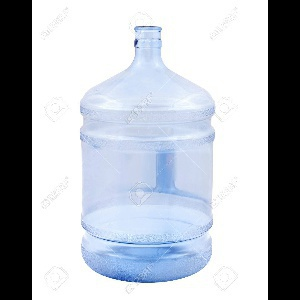emptybottle: (81, 25, 214, 283)
